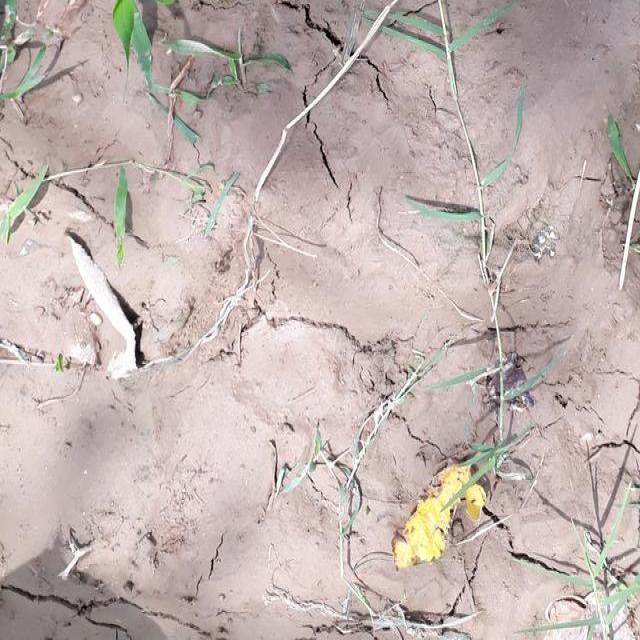weed: (379, 3, 535, 274)
